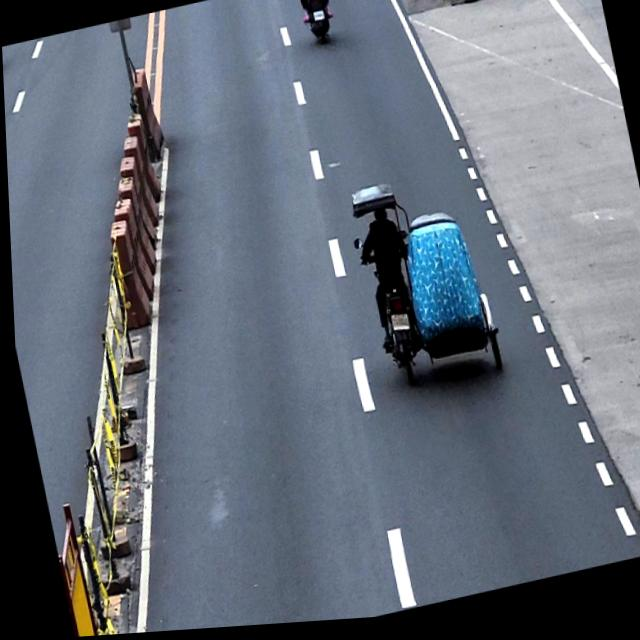License-Plate: (386, 315, 408, 341), (313, 14, 325, 27)
Motorcycle: (294, 0, 337, 48)
Tricycle: (340, 167, 504, 403)
